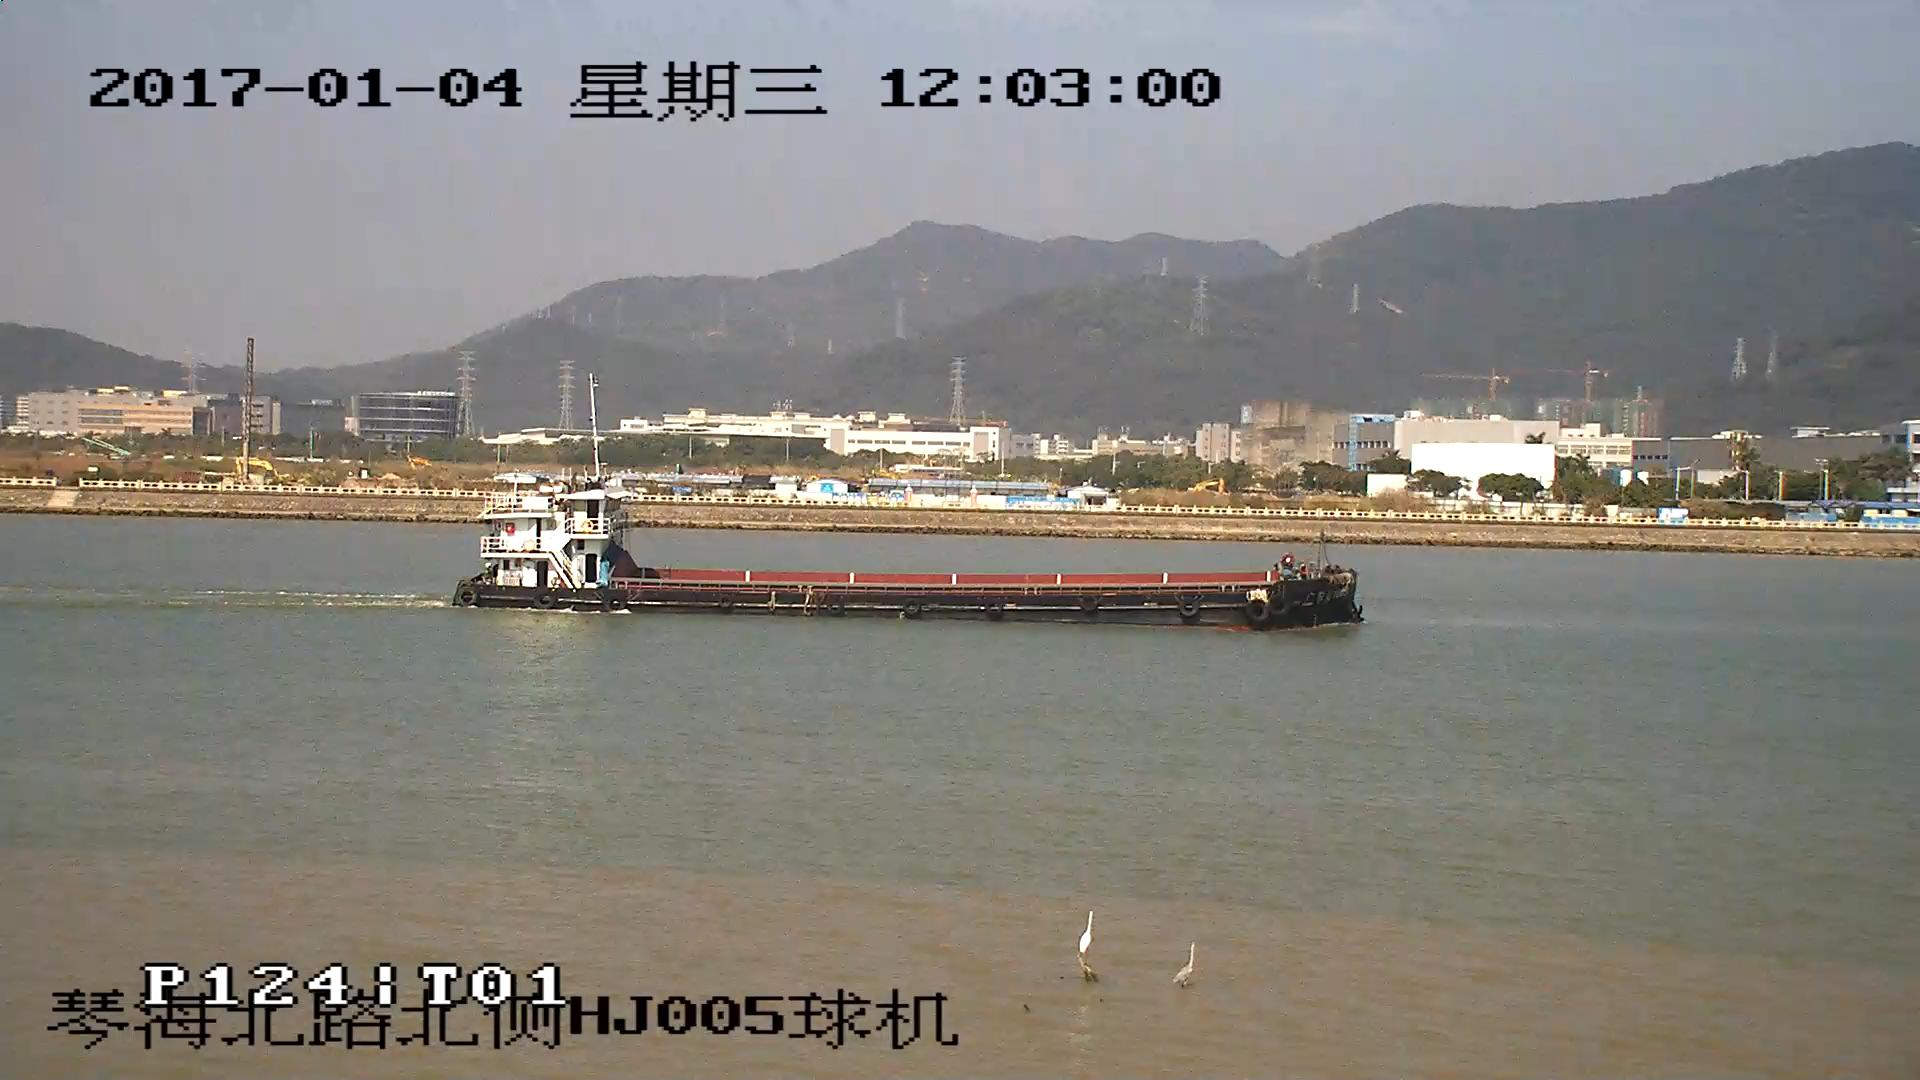general cargo ship: (456, 488, 1356, 629)
